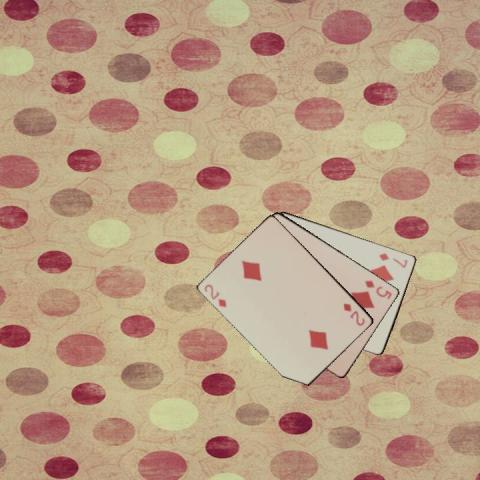2d: (201, 281, 228, 309), (340, 300, 366, 327)
5d: (362, 277, 393, 301)
7d: (376, 250, 409, 270)
